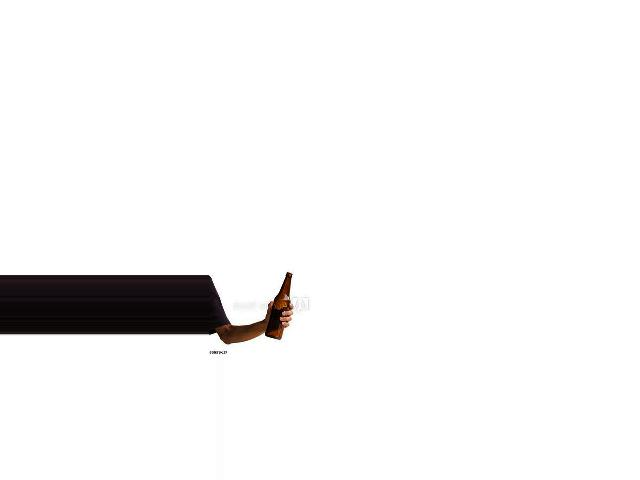beer: (264, 272, 292, 340)
